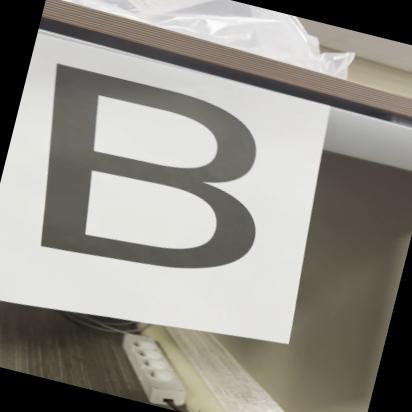seat: (8, 49, 298, 310)
